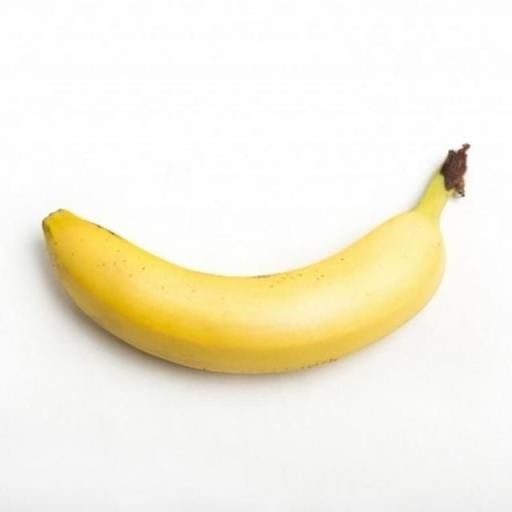fruit: (43, 145, 467, 372)
